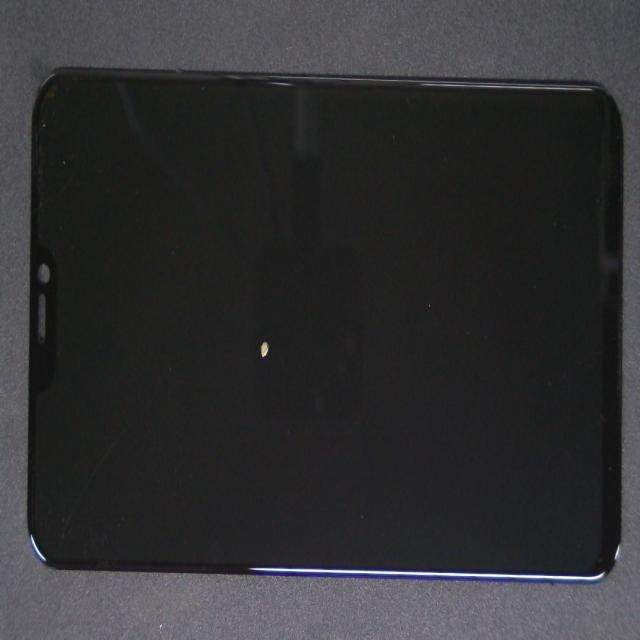stain: (154, 152, 382, 492)
